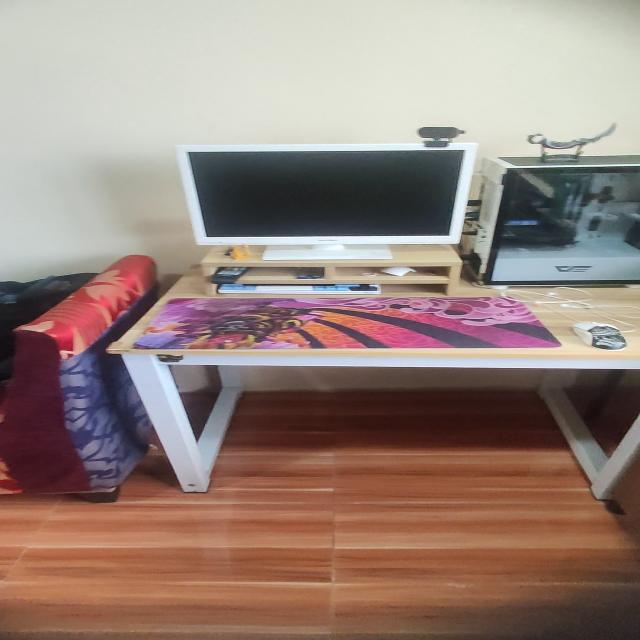table: (118, 268, 640, 495)
